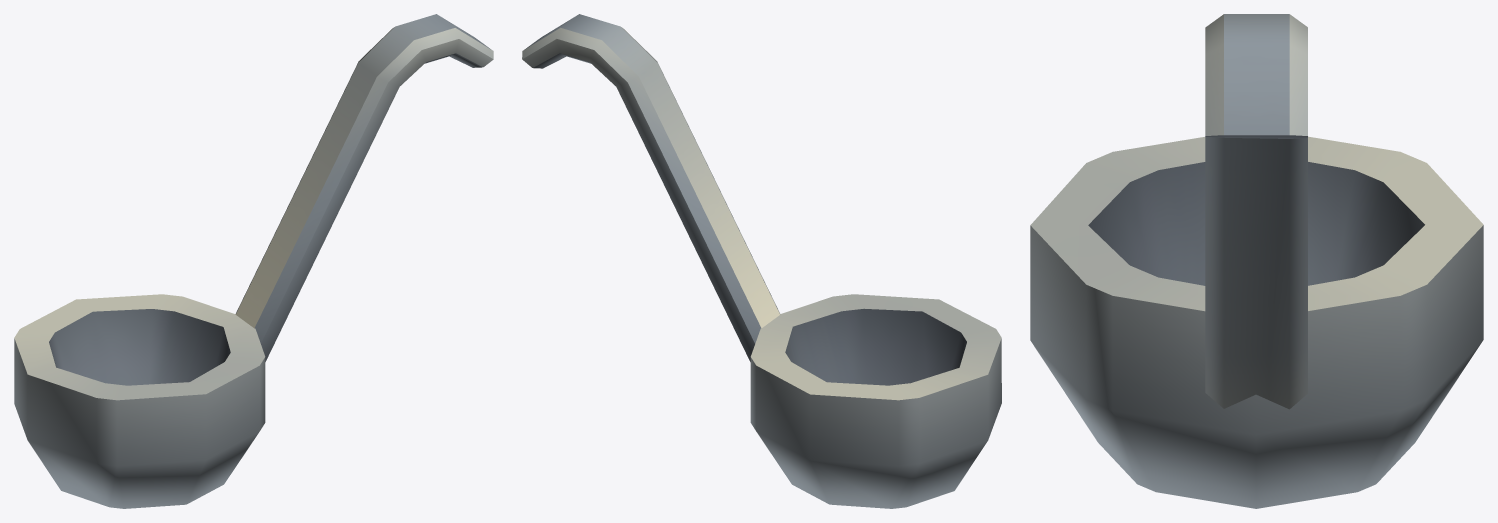
Rendered from laddle.fbx.
3 views of the same model, side by side, from view 1: azimuth 30°, elevation 25°; view 2: azimuth 150°, elevation 25°; view 3: azimuth 270°, elevation 25° (orthographic). The views are drawn at different scales.
Parts seen in each view (by area): view 1: laddle; view 2: laddle; view 3: laddle.
Boxes of the visible parts, x1,y1,x2,y2 form: laddle: (14,14,493,508); laddle: (522,14,1001,508); laddle: (1030,14,1483,508).
Size of the model in its own units: 38.57 by 30.36 by 18.97.
